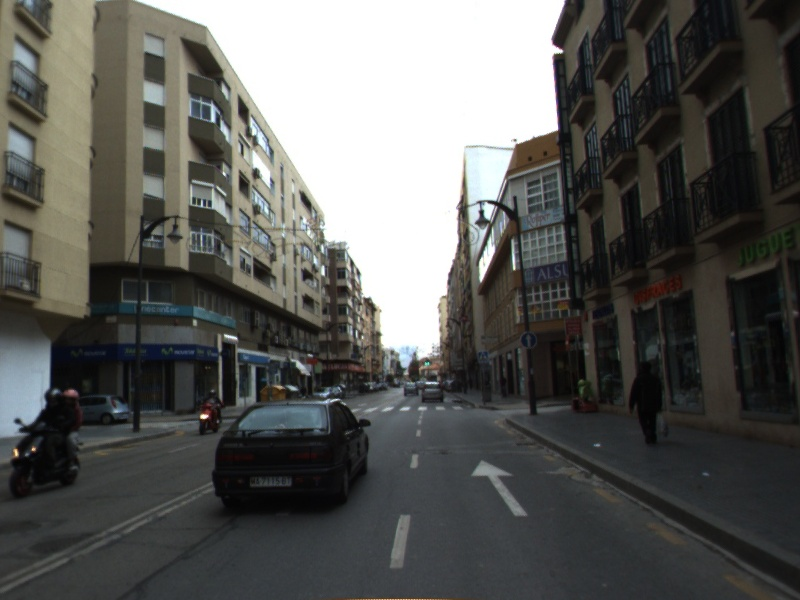STRAIGHT: (467, 455, 532, 518)
